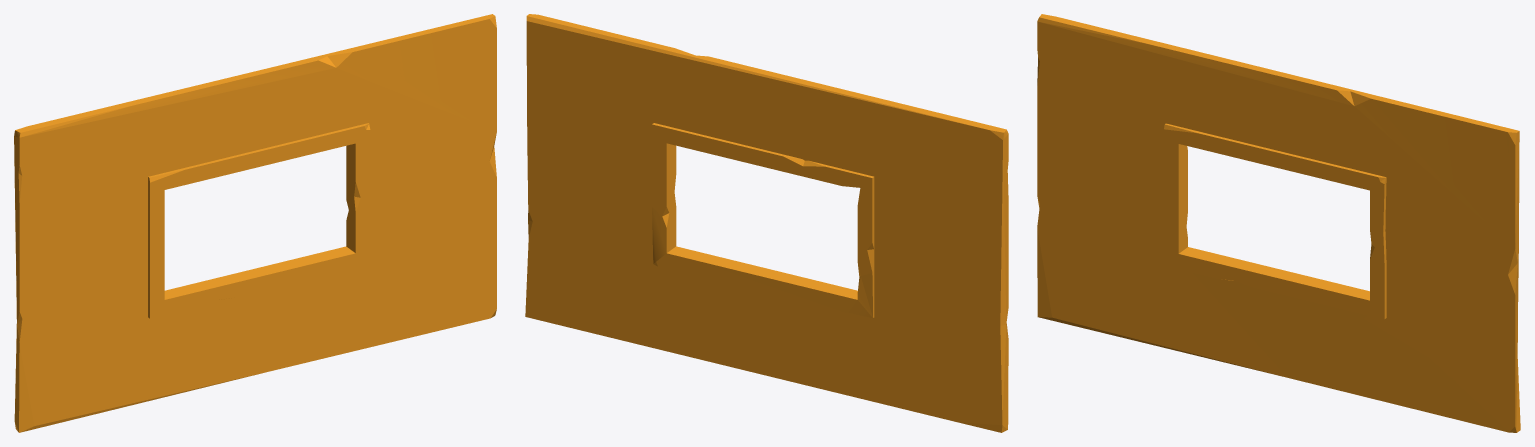
The model's file is SM_Buildings_WallWindowDouble_5x3_01P.fbx.
The picture shows the model from 3 angles, left to right: view 1: azimuth 30°, elevation 25°; view 2: azimuth 150°, elevation 25°; view 3: azimuth 330°, elevation 25°; orthographic projection.
Parts seen in each view (by area): view 1: SM_Buildings_WallWindowDouble_5x3_01P; view 2: SM_Buildings_WallWindowDouble_5x3_01P; view 3: SM_Buildings_WallWindowDouble_5x3_01P.
Boxes of the visible parts, bbox=[...] form: SM_Buildings_WallWindowDouble_5x3_01P: bbox=[14, 14, 496, 432]; SM_Buildings_WallWindowDouble_5x3_01P: bbox=[525, 14, 1008, 432]; SM_Buildings_WallWindowDouble_5x3_01P: bbox=[1037, 14, 1520, 432].
Bounding box in the file's own units: 500 × 300 × 17.29.
